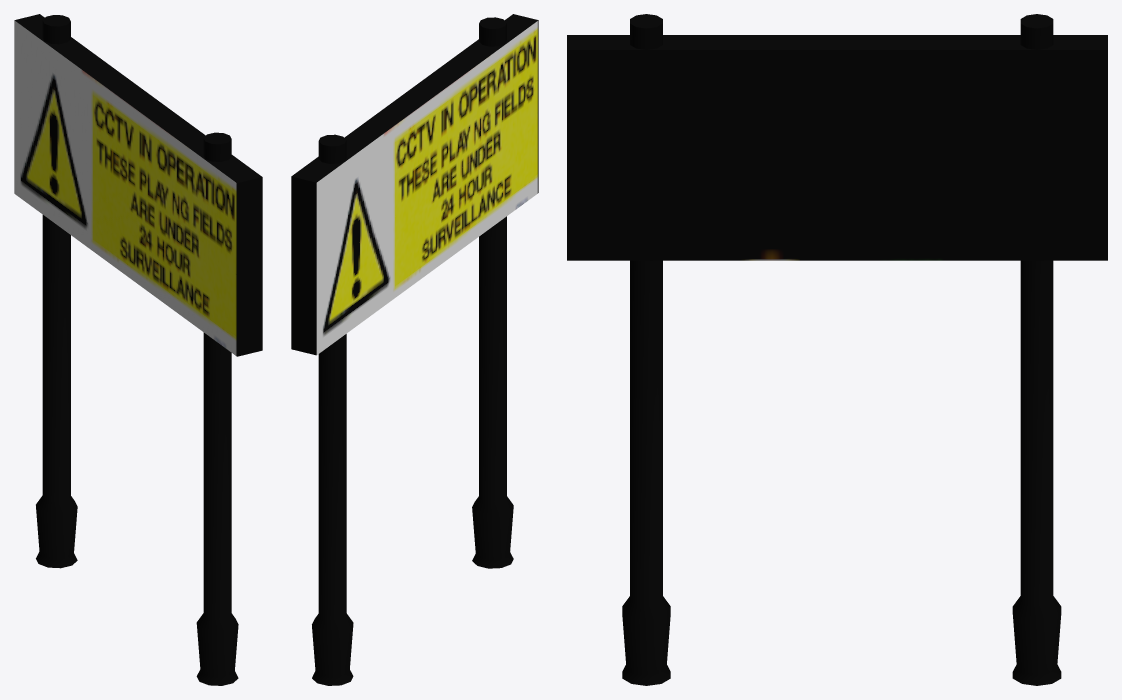
3 views of the same model, side by side, from view 1: azimuth 30°, elevation 25°; view 2: azimuth 150°, elevation 25°; view 3: azimuth 270°, elevation 25° (orthographic). The views are drawn at different scales.
Visible parts, largest first — view 1: Cylinder002; view 2: Cylinder002; view 3: Cylinder002.
Part boxes in pixels (box(x1,y1,x2,y2)): Cylinder002: box(14, 14, 262, 685); Cylinder002: box(291, 14, 538, 685); Cylinder002: box(567, 14, 1107, 685).
Size of the model in its own units: 1.42 by 20.01 by 15.
